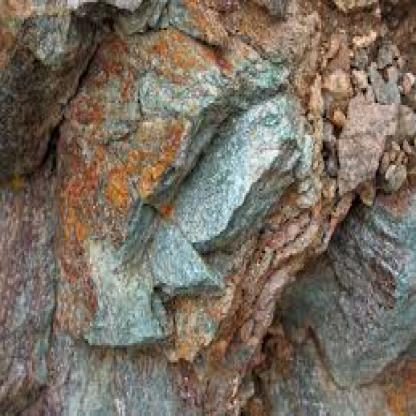Metamorphic_Quartize: (53, 24, 257, 392), (324, 75, 408, 212)
